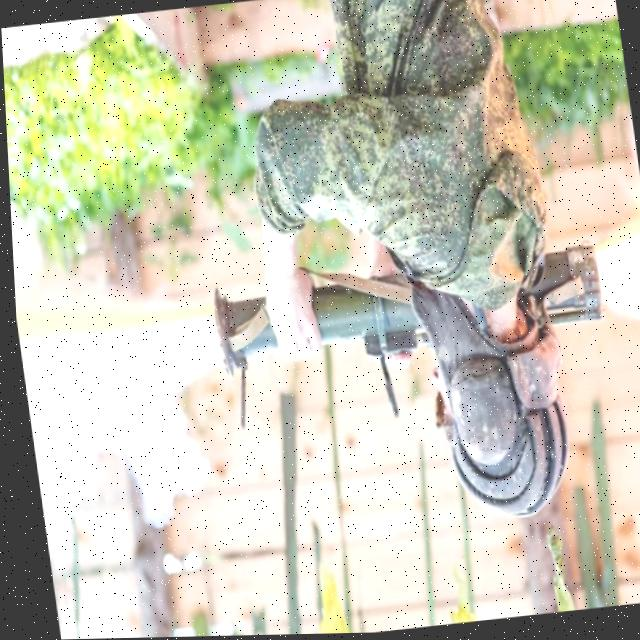rocket: (202, 227, 610, 382)
